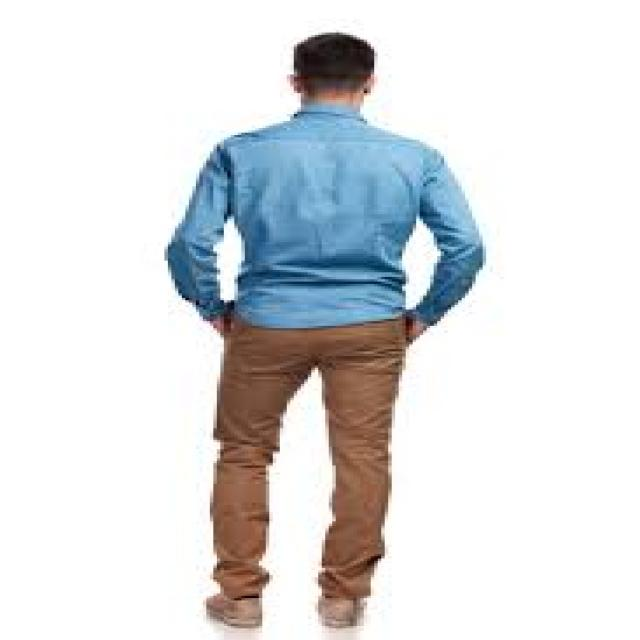adult: (143, 12, 514, 638)
